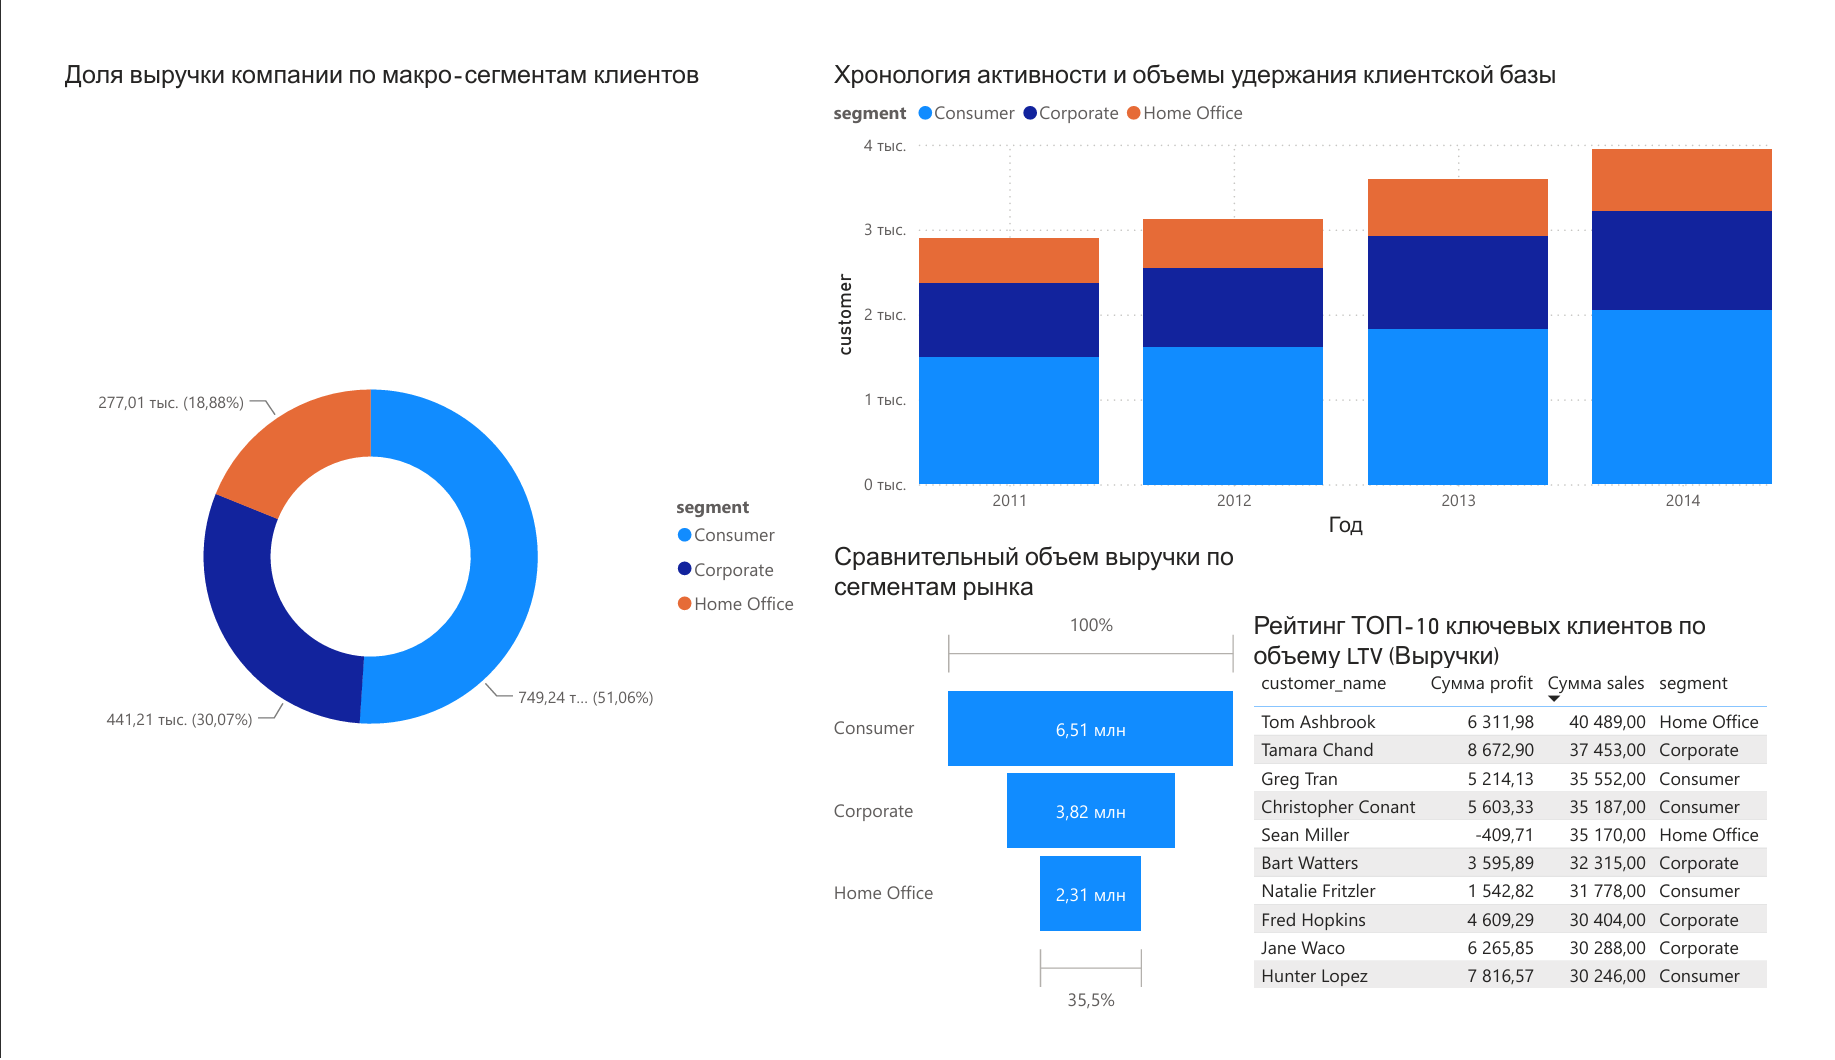

The dashboard page shown, as its layout file describes it:
{"tool":"powerbi","page":{"name":"Customer Analytics","canvas":[1280,720],"ordinal":2},"visuals":[{"type":"donutChart","title":"Доля выручки компании по макро-сегментам клиентов","fields":{"Category":["superstore_cleaned_complete.segment"],"Y":["Sum(superstore_cleaned_complete.profit)"]},"box":[0,0,562.3,720.3],"z":0},{"type":"tableEx","title":"Рейтинг ТОП-10 ключевых клиентов по объему LTV (Выручки)","fields":{"Values":["superstore_cleaned_complete.customer_name","Sum(superstore_cleaned_complete.profit)","Sum(superstore_cleaned_complete.sales)","superstore_cleaned_complete.segment"]},"box":[884.1,410.1,395.7,310.1],"z":1000},{"type":"columnChart","title":"Хронология активности и объемы удержания клиентской базы","fields":{"Category":["superstore_cleaned_complete.order_date.Изменение.Иерархия дат.Год","superstore_cleaned_complete.order_date.Изменение.Иерархия дат.Квартал","superstore_cleaned_complete.order_date.Изменение.Иерархия дат.Месяц","superstore_cleaned_complete.order_date.Изменение.Иерархия дат.День"],"Y":["Count(superstore_cleaned_complete.customer_id)"],"Series":["superstore_cleaned_complete.segment"]},"box":[572.5,0,707.2,359.4],"z":2000},{"type":"funnel","title":"Сравнительный объем выручки по сегментам рынка ","fields":{"Category":["superstore_cleaned_complete.segment"],"Y":["Sum(superstore_cleaned_complete.sales)"]},"box":[572.5,359.4,311.6,360.9],"z":3000}]}

Visuals, with their boxes in screenshot pixels (x1, y1, x2, y2), scaled from the page's 1280x720 canvas onto the 1835x1060 screenshot:
"Доля выручки компании по макро-сегментам клиентов" donutChart: [0,0,806,1059]
"Рейтинг ТОП-10 ключевых клиентов по объему LTV (Выручки)" tableEx: [1267,604,1834,1059]
"Хронология активности и объемы удержания клиентской базы" columnChart: [821,0,1834,529]
"Сравнительный объем выручки по сегментам рынка " funnel: [821,529,1267,1059]
